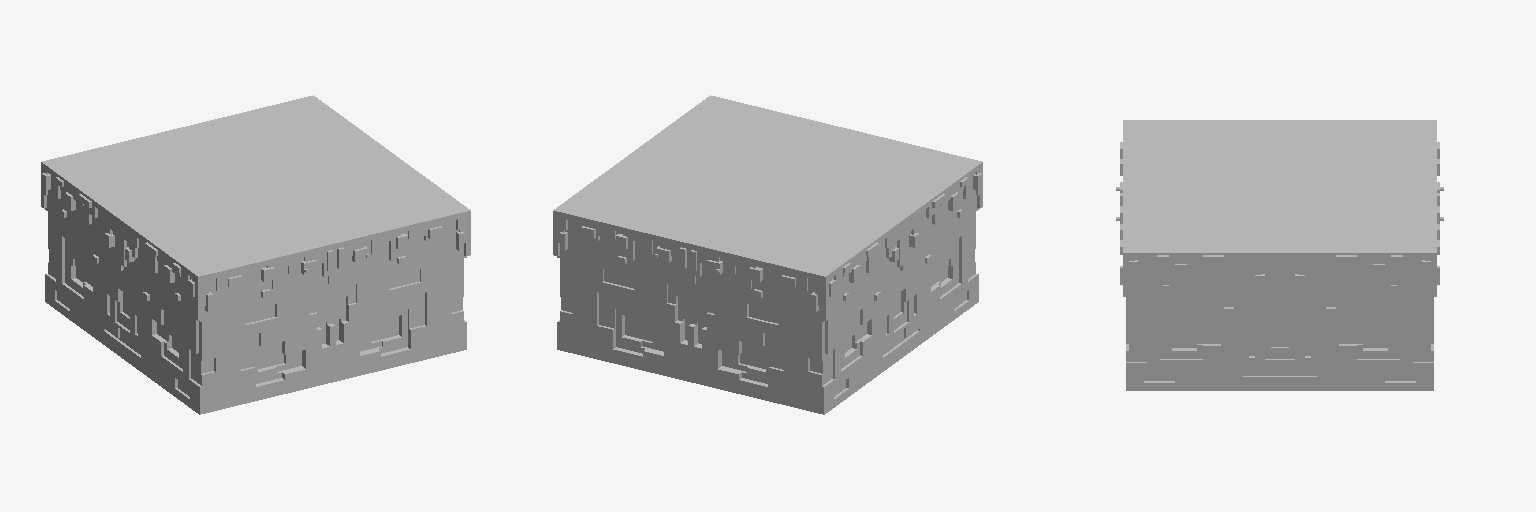
File: ground 3.obj
3 renders of one model, left to right at view 1: azimuth 30°, elevation 25°; view 2: azimuth 150°, elevation 25°; view 3: azimuth 270°, elevation 25°, orthographic.
Visible parts, largest first — view 1: object 1; view 2: object 1; view 3: object 1.
Part boxes in pixels (x1,y1,x2,y2): object 1: (41, 95, 470, 414); object 1: (553, 95, 982, 414); object 1: (1116, 120, 1443, 390).
Size of the model in its own units: 10.4 by 5 by 10.6.